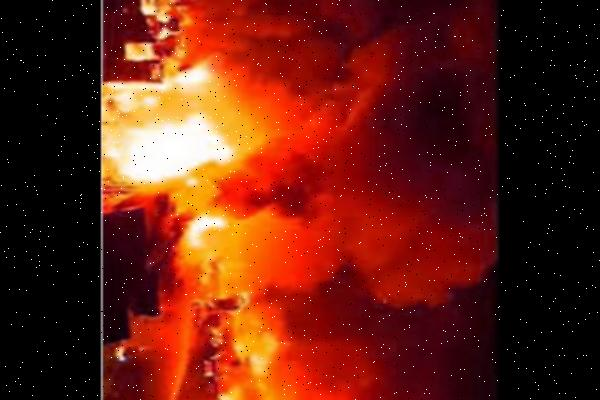fire: (106, 0, 402, 400)
